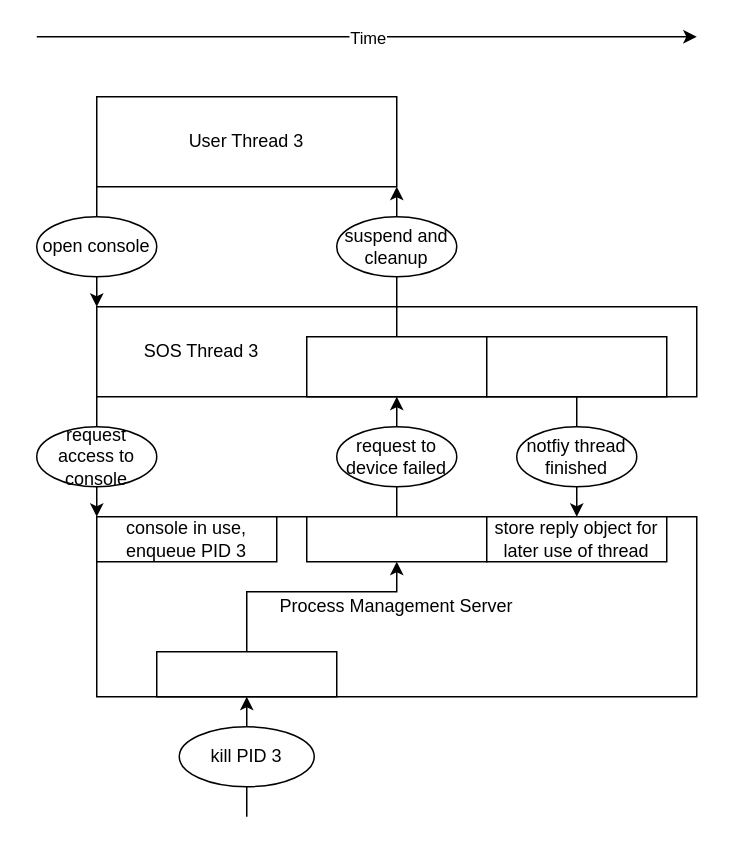
This 735x855 diagram has some shape labels left out. The centre of each missing label's shape, as x and y in pixels:
"in thread_trampoline" belongs at point 576,366.
"remove PID 3 from console queue" belongs at point 396,538.
"return to syscall handler, receive signal" belongs at point 396,366.
"send kill signal to PID 3" belongs at point 246,673.
